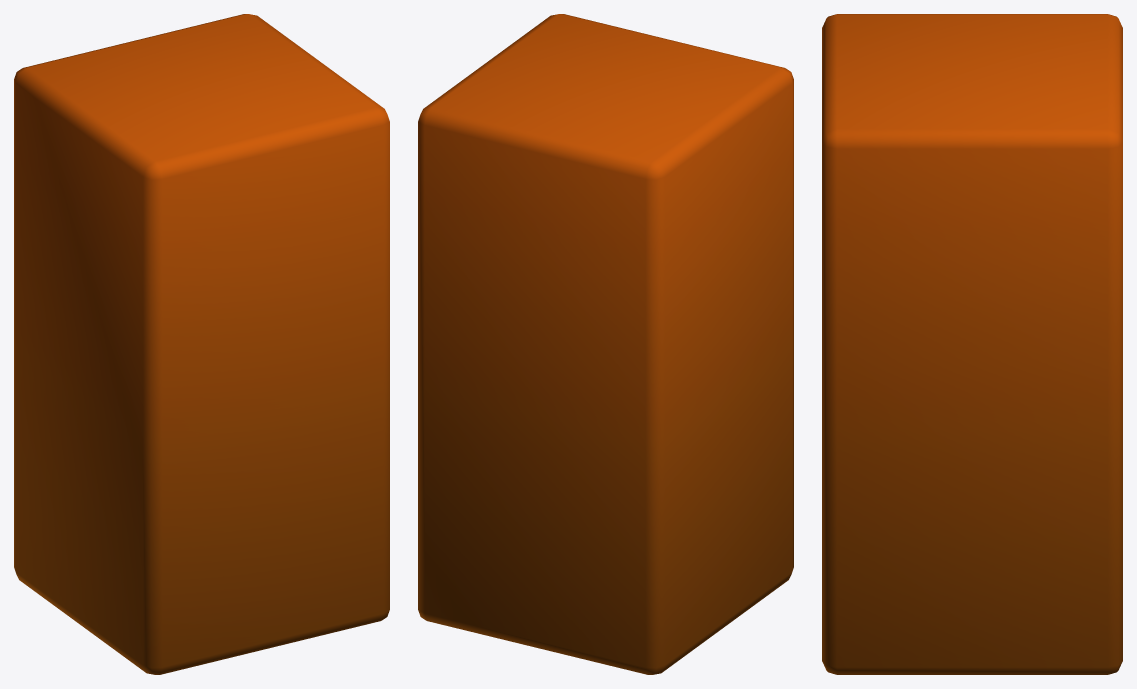
File: 3D_Tile_Ground_04x2.fbx
3 views of the same model, side by side, from view 1: azimuth 30°, elevation 25°; view 2: azimuth 150°, elevation 25°; view 3: azimuth 270°, elevation 25° (orthographic). The views are drawn at different scales.
Visible parts, largest first — view 1: 3D_Tile_Ground_04x2; view 2: 3D_Tile_Ground_04x2; view 3: 3D_Tile_Ground_04x2.
Boxes of the visible parts, bbox=[...] form: 3D_Tile_Ground_04x2: bbox=[14, 14, 389, 674]; 3D_Tile_Ground_04x2: bbox=[418, 14, 793, 674]; 3D_Tile_Ground_04x2: bbox=[822, 14, 1122, 674].
Size of the model in its own units: 200 by 400 by 200.
